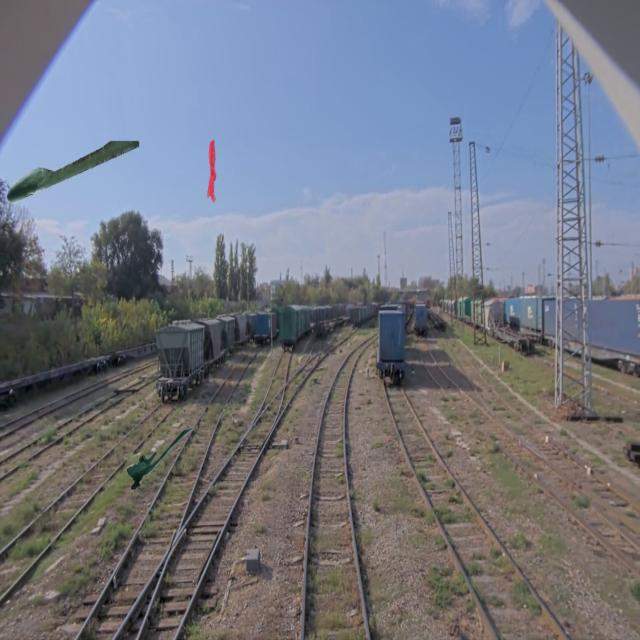floating object: (6, 141, 141, 205), (127, 426, 194, 490), (207, 138, 217, 202)
